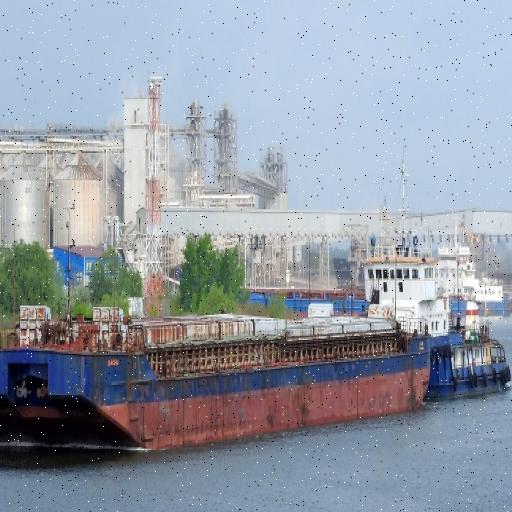tugboat: (328, 228, 512, 418)
